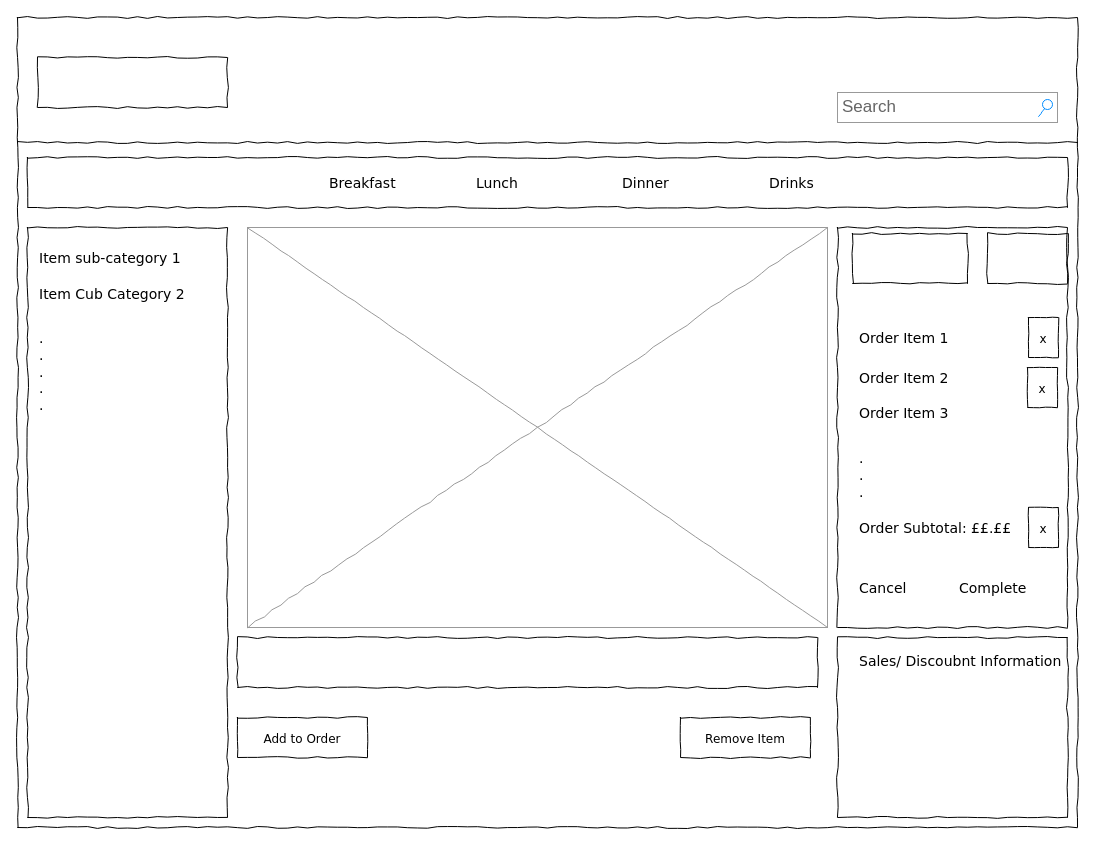
The diagram is 1095 pixels wide and 845 high, and some of its shapes have lost their labels. The box of each missing label's shape, as (x1, y1, x2, y2) in pixels:
Brief Description of menu item: (236, 636, 818, 688)
Item Quatity: (986, 232, 1068, 284)
LOGO: (36, 56, 228, 108)
Menu Item: (852, 232, 968, 284)
